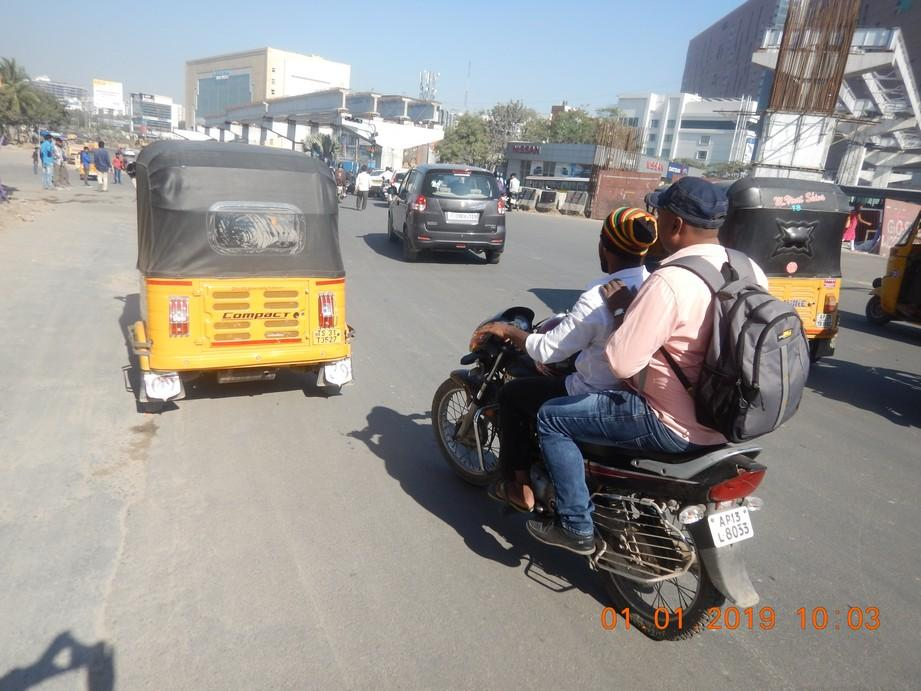plate: (708, 508, 753, 545)
